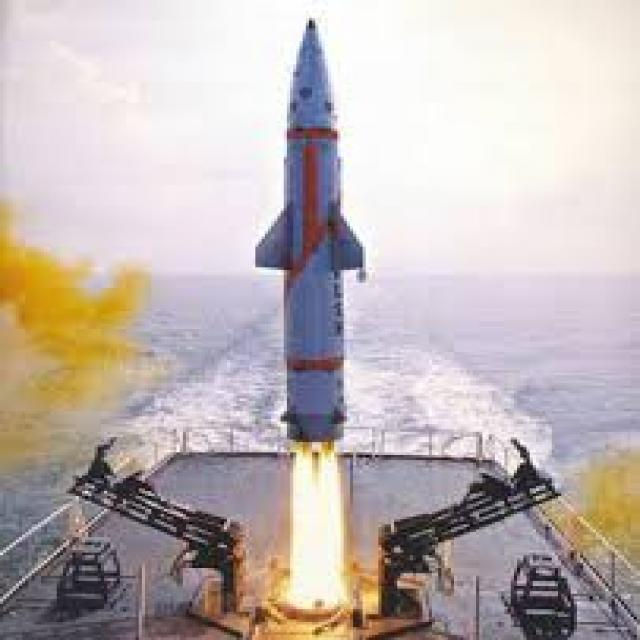Missile: (244, 0, 376, 452)
